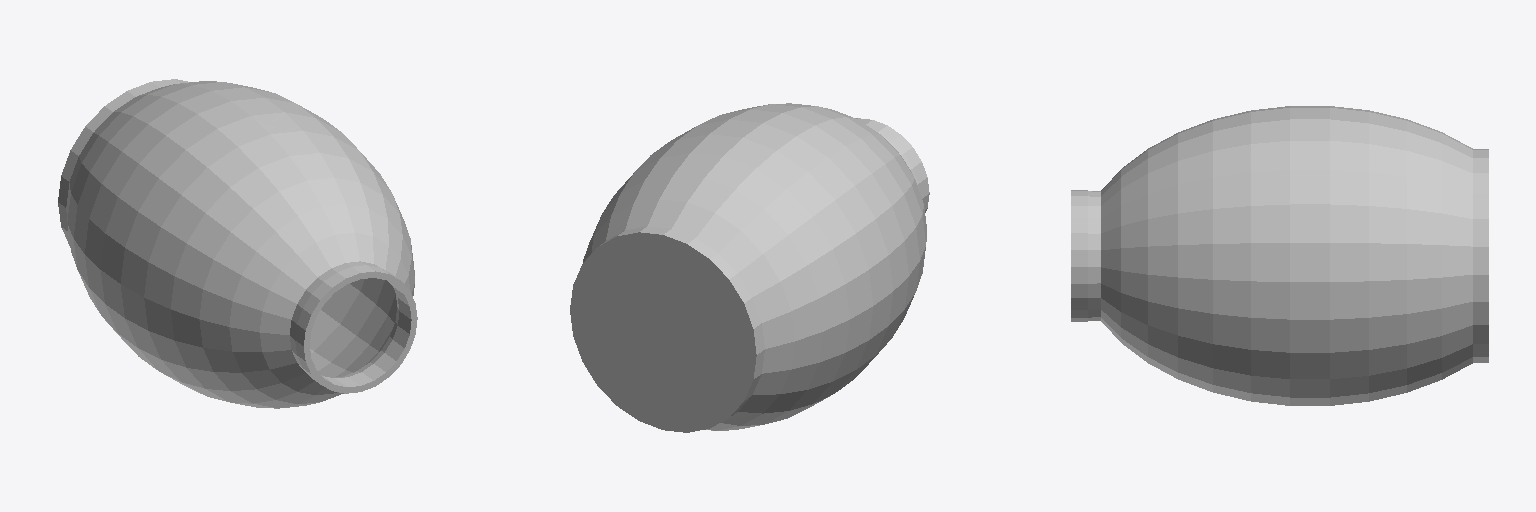
The model's file is model_align.obj.
The picture shows the model from 3 angles: view 1: azimuth 30°, elevation 25°; view 2: azimuth 150°, elevation 25°; view 3: azimuth 270°, elevation 25°; orthographic projection.
Visible parts, largest first — view 1: mesh1_mesh1-geometry; view 2: mesh1_mesh1-geometry; view 3: mesh1_mesh1-geometry.
Boxes of the visible parts, x1=… form: mesh1_mesh1-geometry: x1=58, y1=79, x2=417, y2=408; mesh1_mesh1-geometry: x1=570, y1=103, x2=929, y2=432; mesh1_mesh1-geometry: x1=1071, y1=106, x2=1488, y2=405.
Bounding box in the file's own units: 0.1095 × 0.1095 × 0.1522.